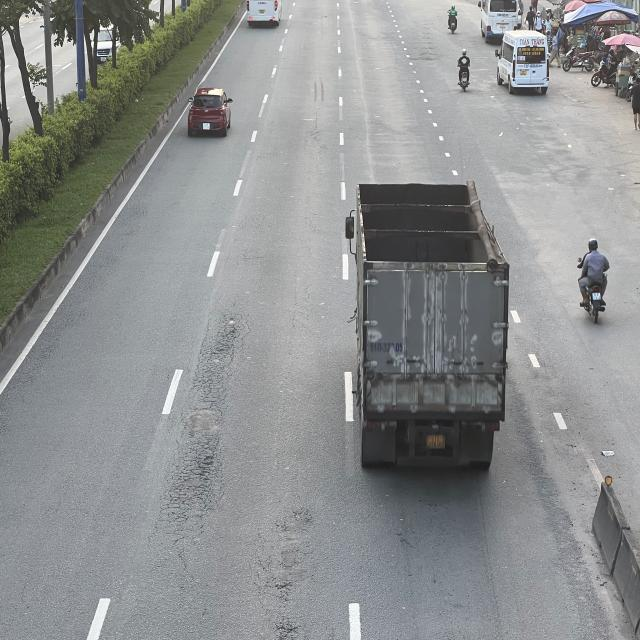car: (190, 86, 233, 138)
truck: (346, 181, 509, 473)
van: (496, 28, 548, 93)
